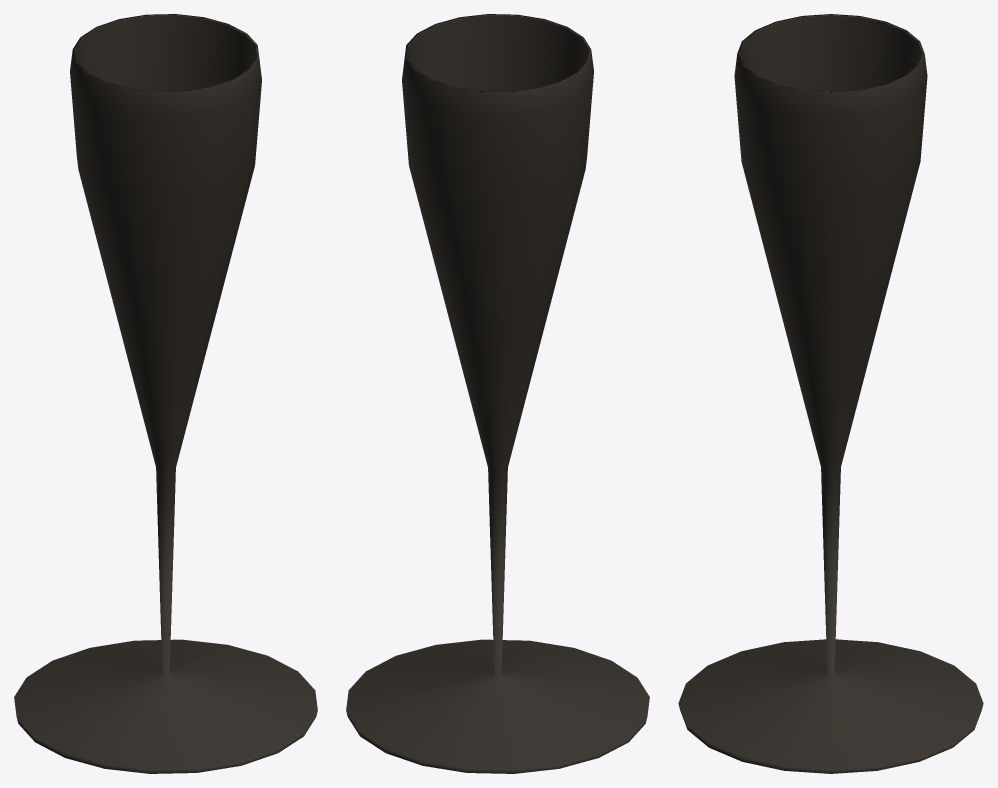
The model's file is BgMD_Glass03.fbx.
The picture shows the model from 3 angles, left to right: view 1: azimuth 30°, elevation 25°; view 2: azimuth 150°, elevation 25°; view 3: azimuth 270°, elevation 25°; orthographic projection.
Visible parts, largest first — view 1: grass; view 2: grass; view 3: grass.
Part boxes in pixels (x1,y1,x2,y2): grass: (14,14,317,773); grass: (346,14,649,773); grass: (678,14,983,773).
Size of the model in its own units: 0.08 by 0.1899 by 0.08.
